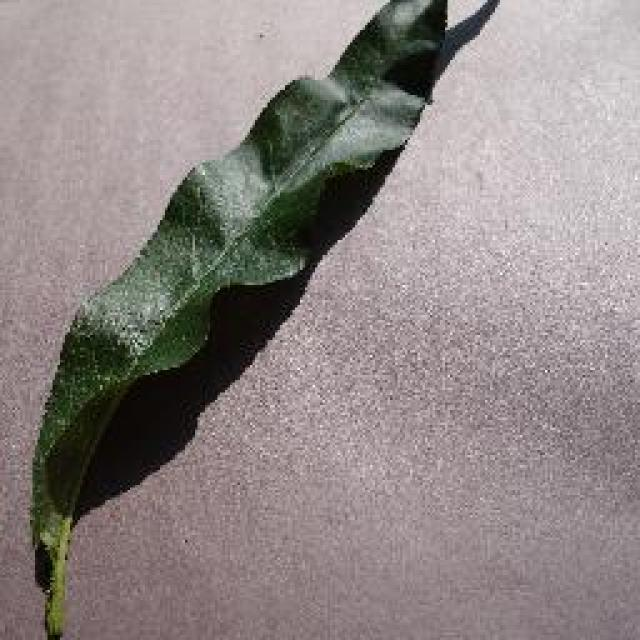Pea_healthy: (50, 46, 402, 445)
